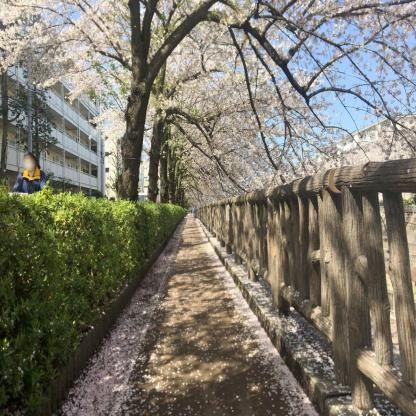Someiyoshino: (0, 1, 416, 257)
